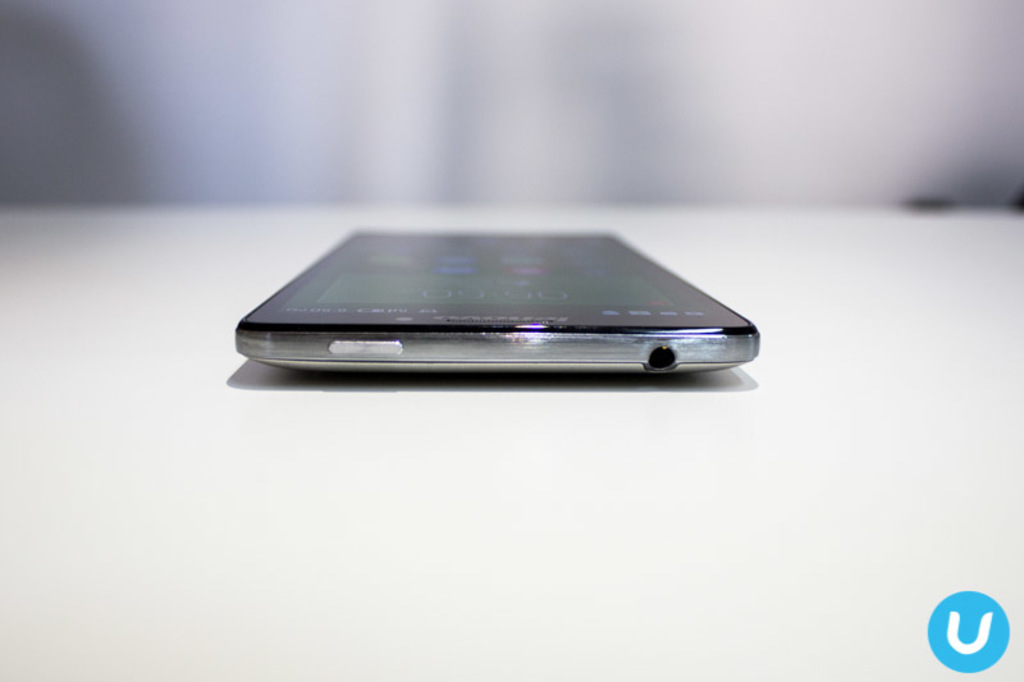Mobile-phone: (235, 227, 761, 378)
